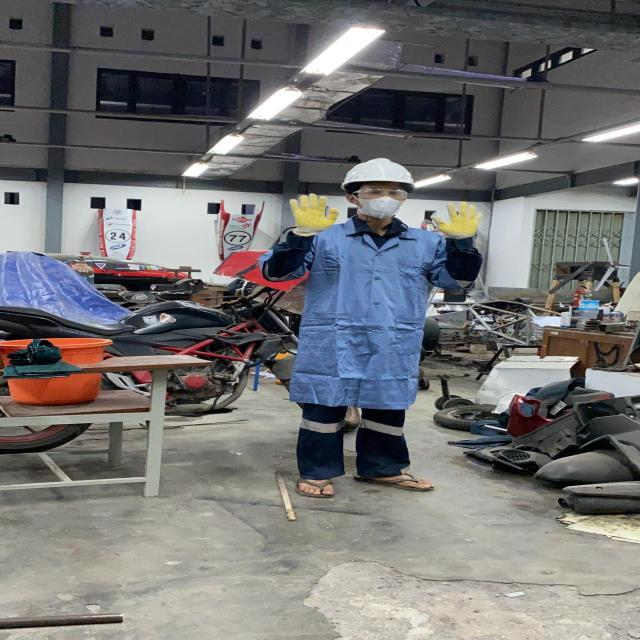glasses: (346, 186, 412, 200)
